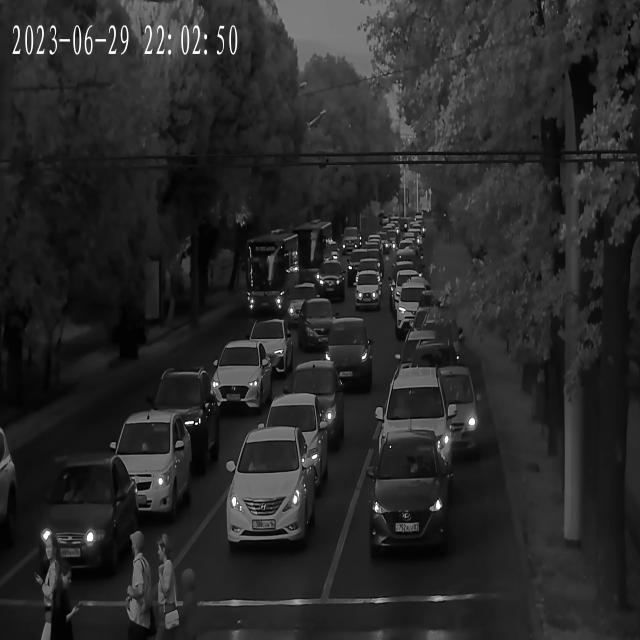Bus: (243, 232, 300, 308), (297, 222, 331, 285)
Car: (40, 458, 137, 579), (363, 434, 451, 558), (227, 429, 315, 552), (377, 364, 471, 476), (103, 410, 190, 517), (136, 371, 222, 470), (268, 361, 346, 448), (419, 363, 479, 456), (250, 402, 328, 471), (208, 343, 272, 413), (318, 320, 373, 387), (244, 322, 298, 380), (390, 284, 442, 343), (407, 342, 460, 386), (298, 299, 346, 347), (283, 284, 324, 320), (392, 267, 422, 313), (353, 273, 389, 310), (313, 262, 347, 296), (346, 252, 376, 274), (341, 227, 361, 254), (398, 242, 417, 263), (362, 238, 383, 256), (376, 232, 390, 253)
